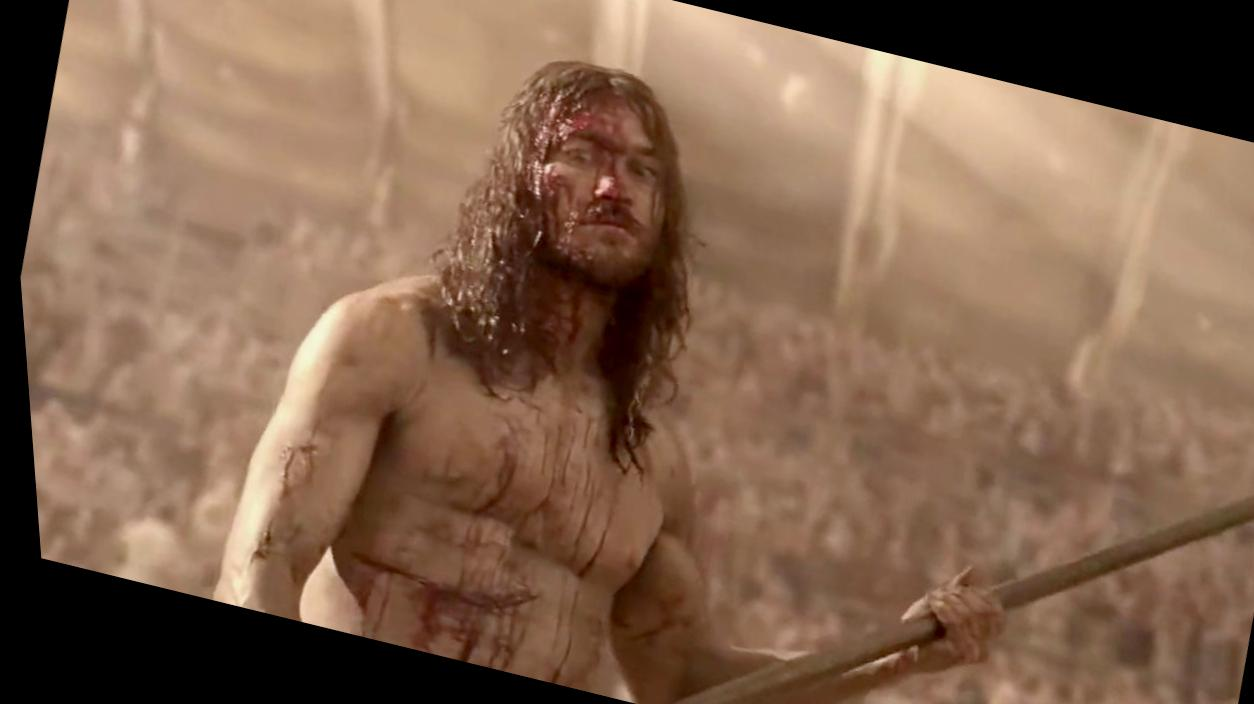Fire: (537, 96, 659, 290)
